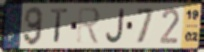2: (158, 7, 181, 45)
7: (135, 7, 156, 45)
9: (23, 5, 44, 47)
J: (105, 8, 126, 45)
R: (75, 6, 102, 46)
T: (50, 8, 70, 45)
